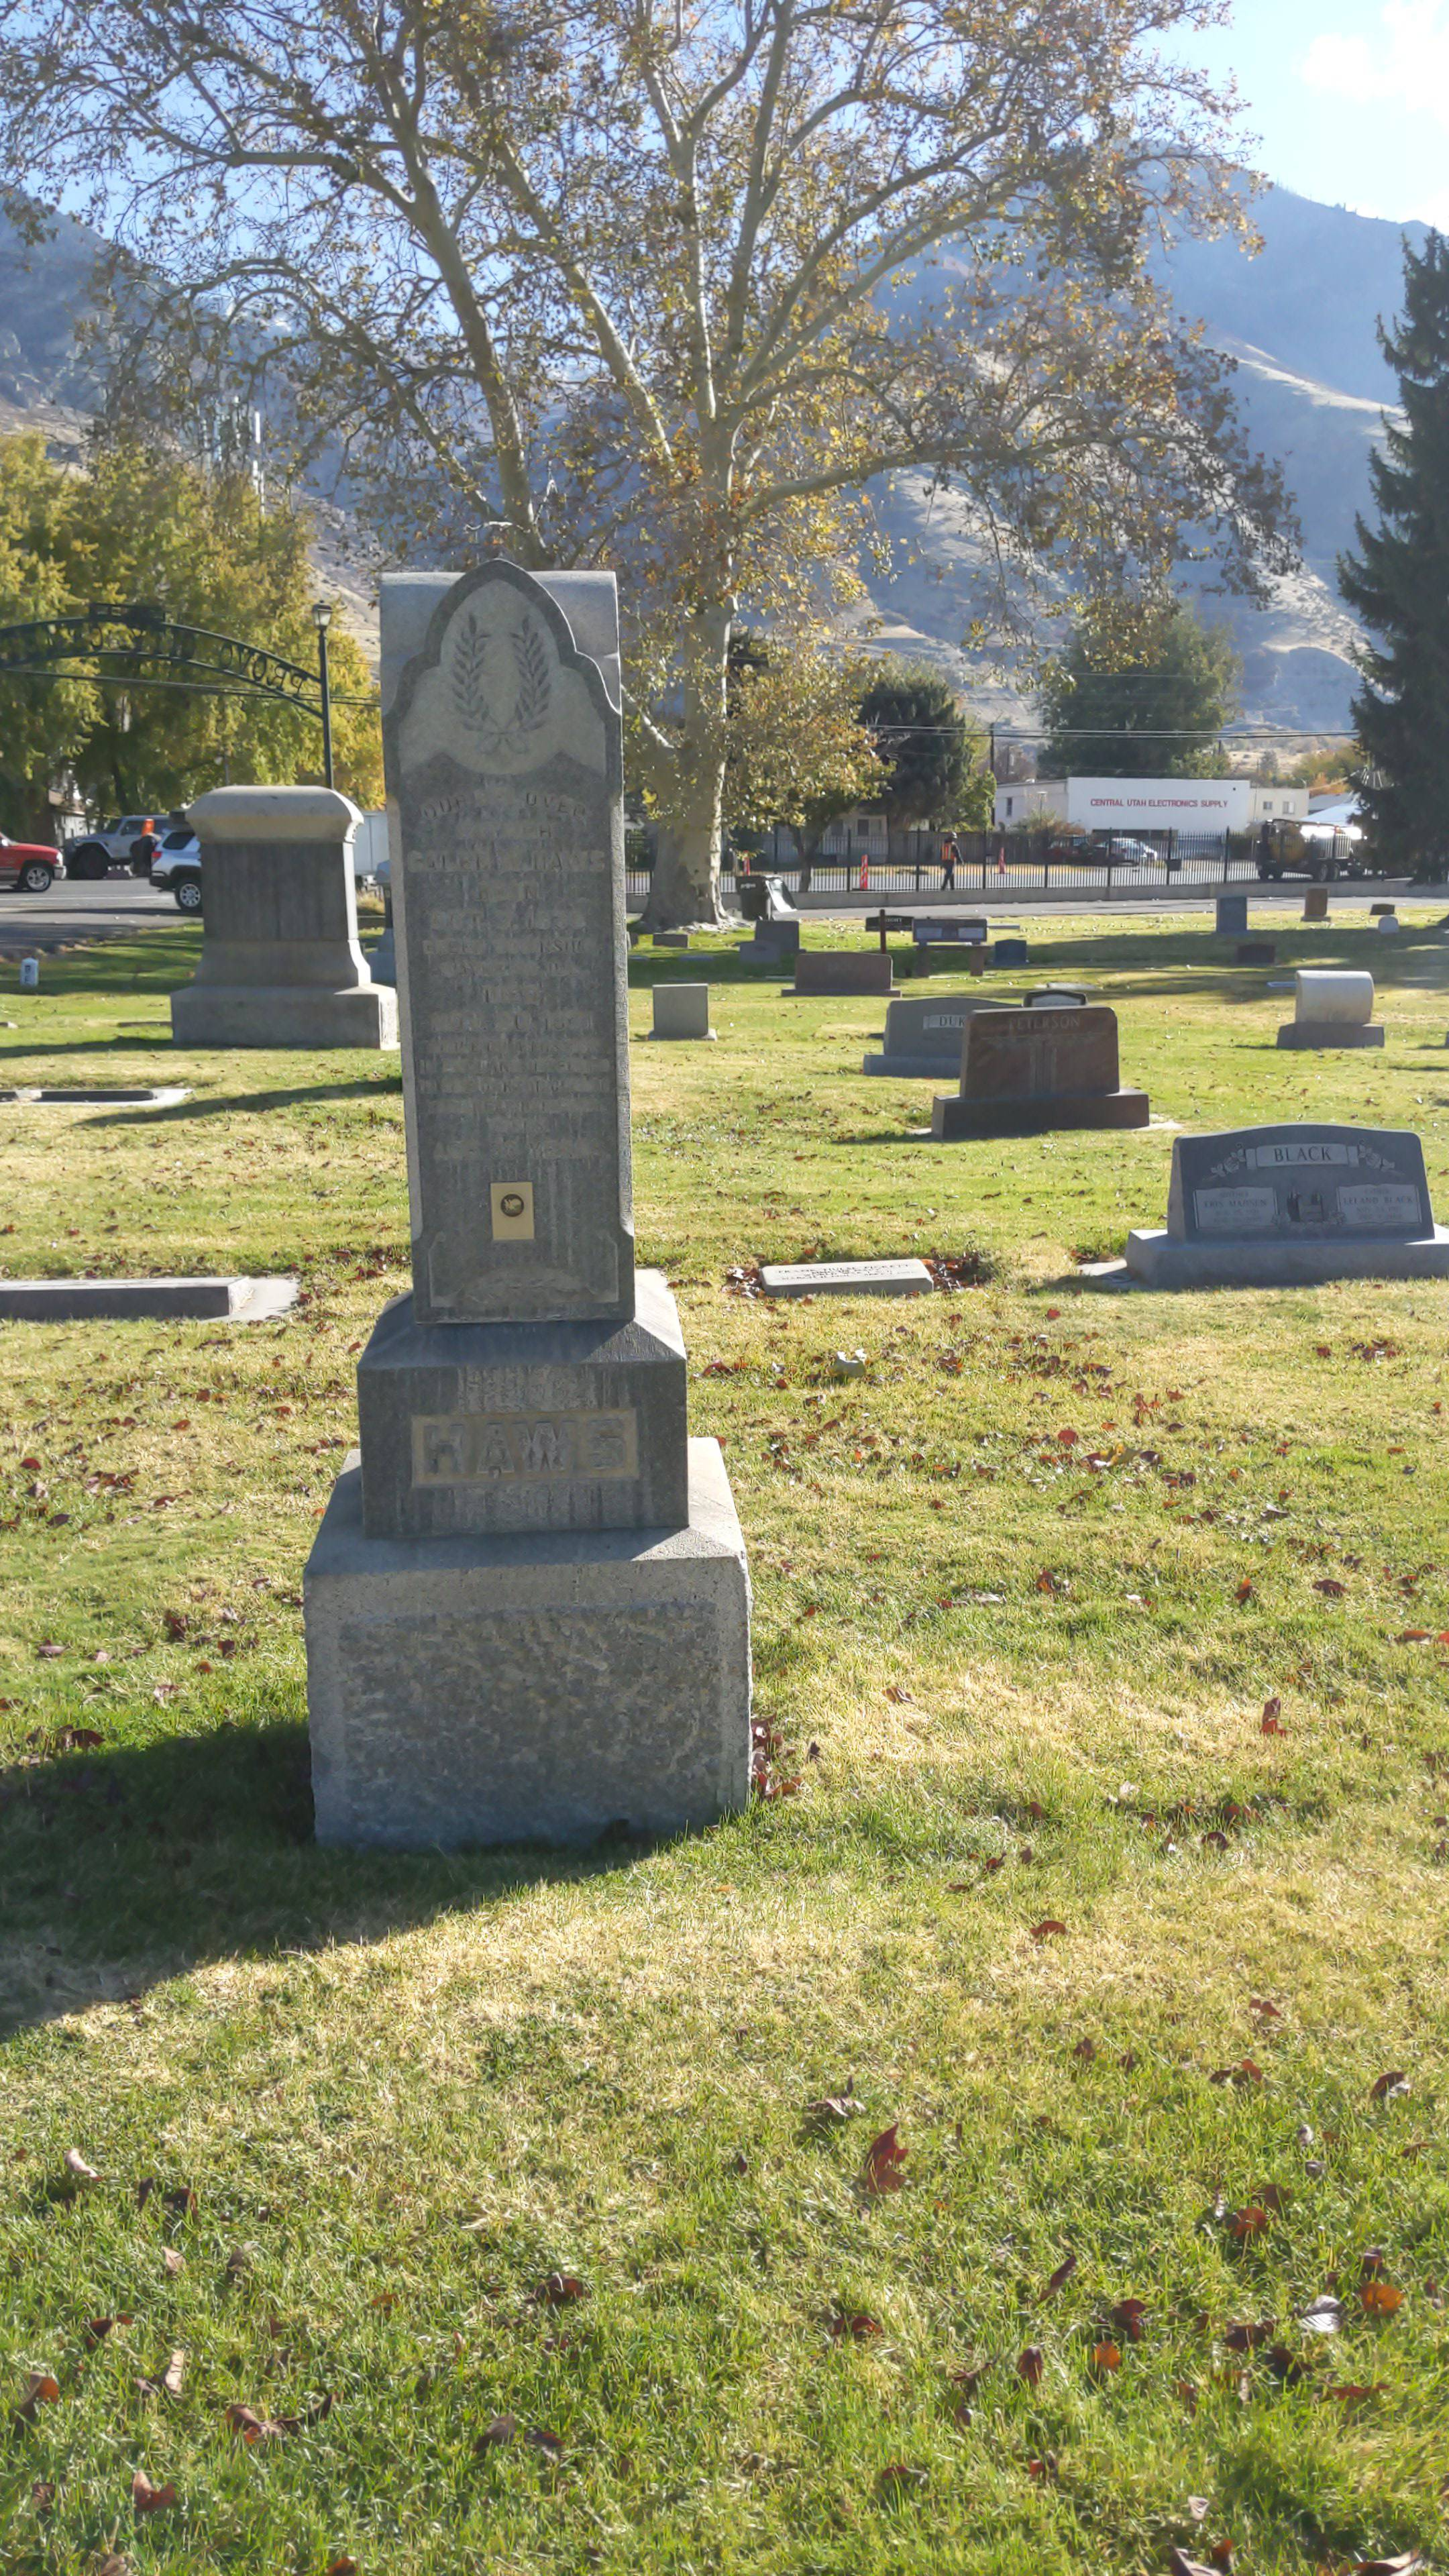obelisk: (350, 566, 686, 1536)
